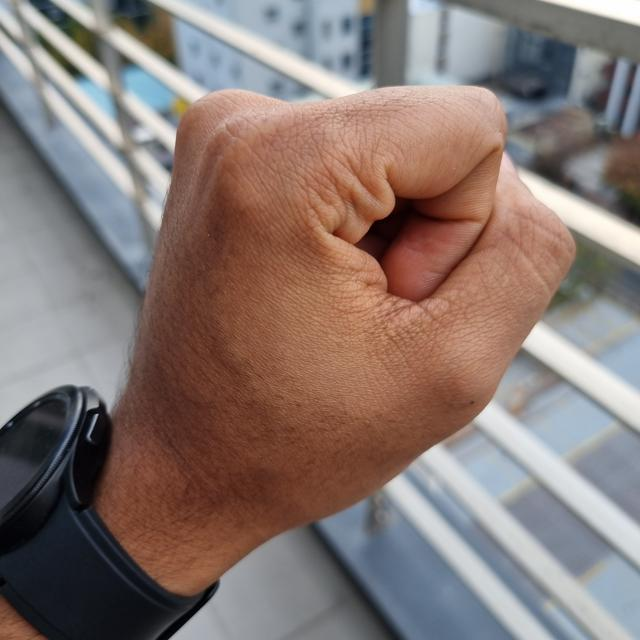Rock: (111, 82, 574, 545)
